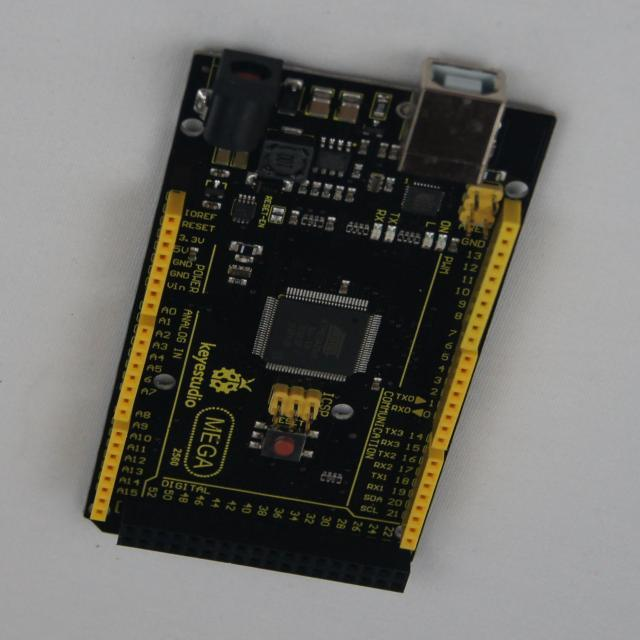Arduino Mega 2560 -Yellow-: (85, 50, 555, 593)
